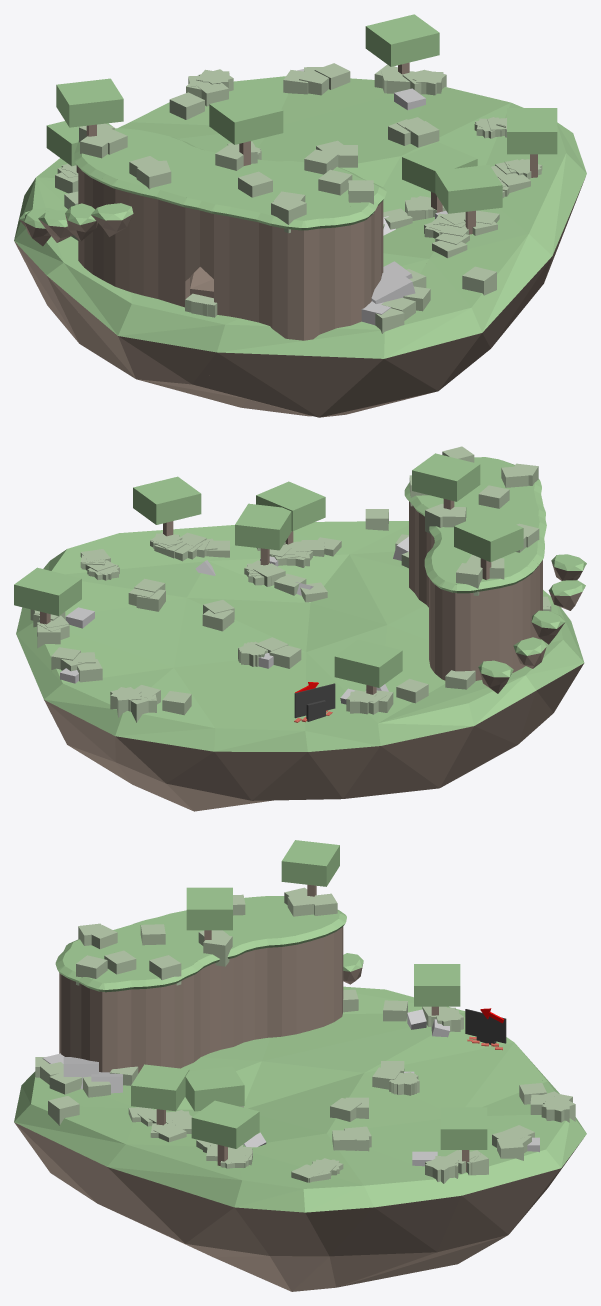
The model's file is maze_world_reference.glb.
3 renders of one model, top to bottom at view 1: azimuth 30°, elevation 25°; view 2: azimuth 150°, elevation 25°; view 3: azimuth 270°, elevation 25°, orthographic. The views are drawn at different scales.
Visible parts, largest first — view 1: Roblox reference geometry; view 2: Roblox reference geometry; view 3: Roblox reference geometry.
Part boxes in pixels (box(x1,y1,x2,y2)): Roblox reference geometry: box(14, 14, 586, 417); Roblox reference geometry: box(14, 446, 586, 811); Roblox reference geometry: box(14, 840, 586, 1291).
Size of the model in its own units: 149 by 88.68 by 148.
